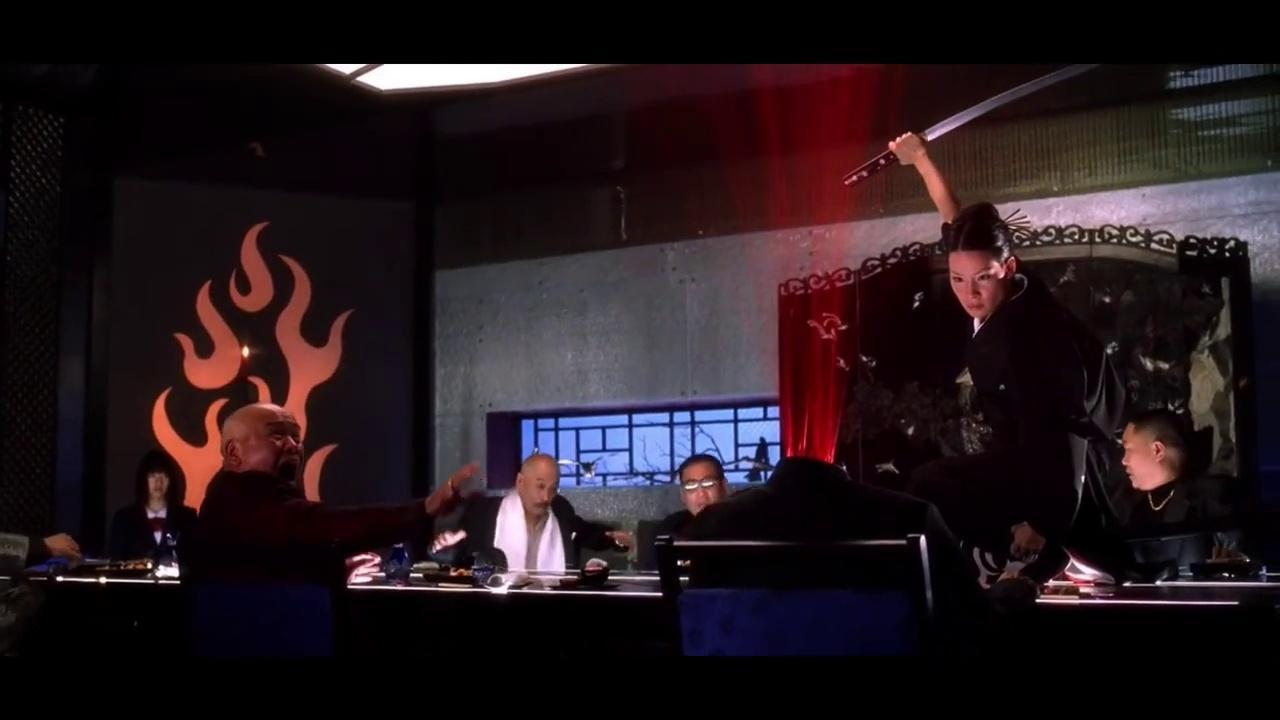Fire: (643, 64, 938, 464)
